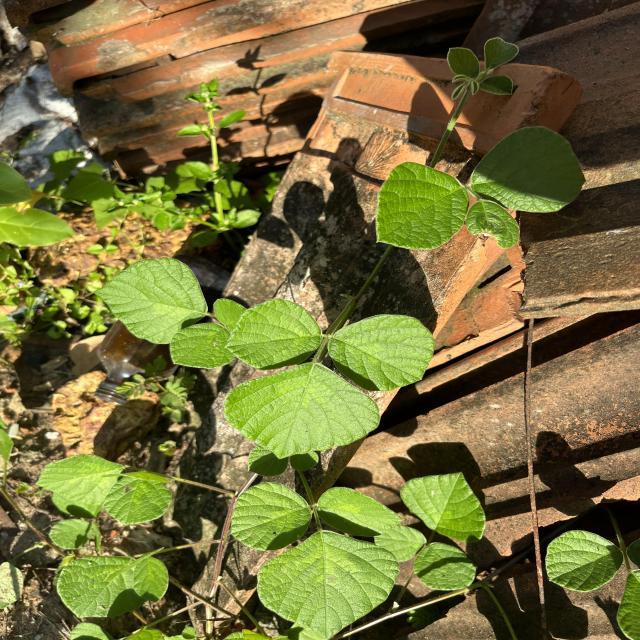Pseudarthria viscida: (222, 296, 436, 462), (228, 478, 406, 640), (374, 125, 589, 252)
